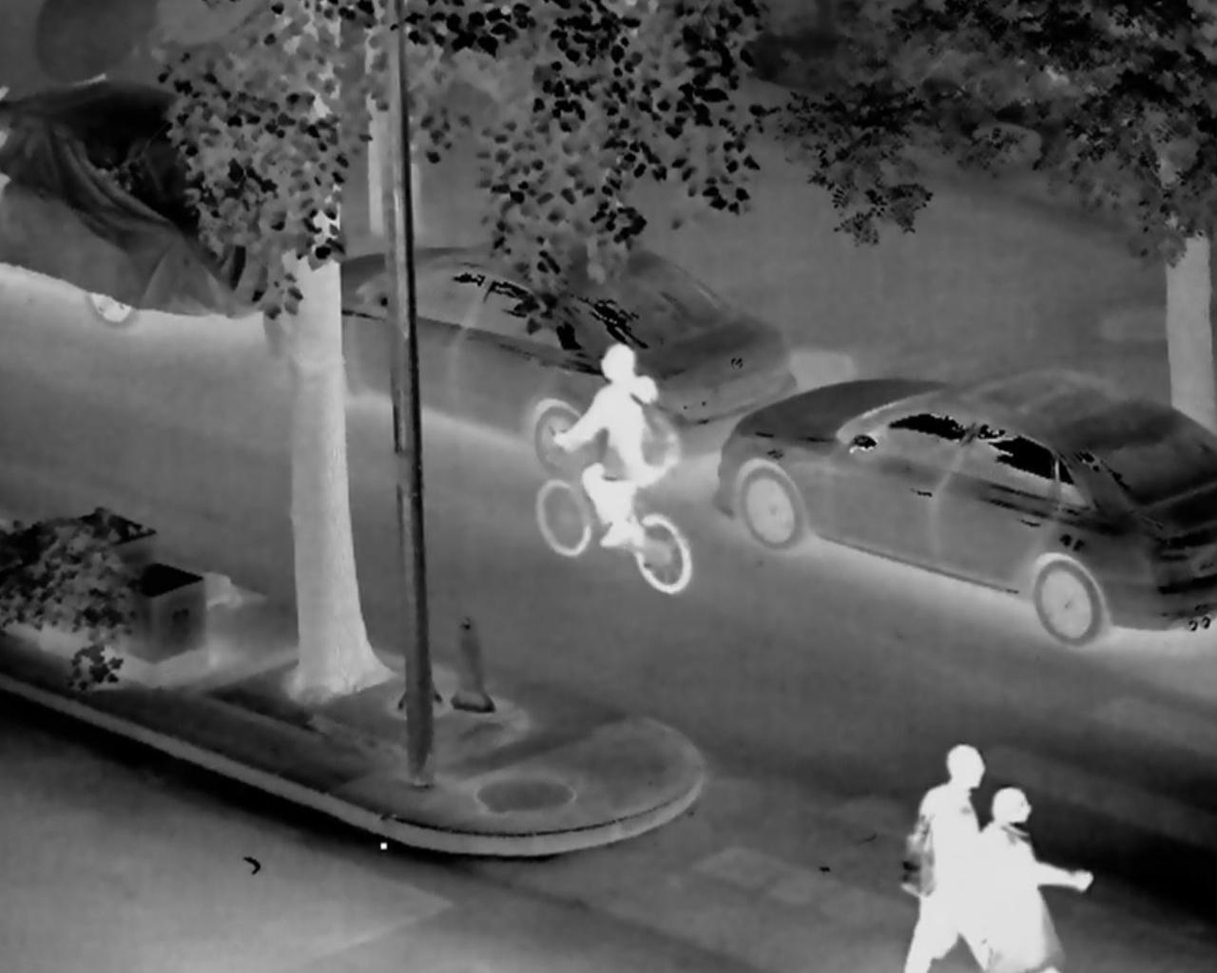person: (976, 763, 1111, 973), (557, 341, 676, 569), (879, 737, 985, 973)
